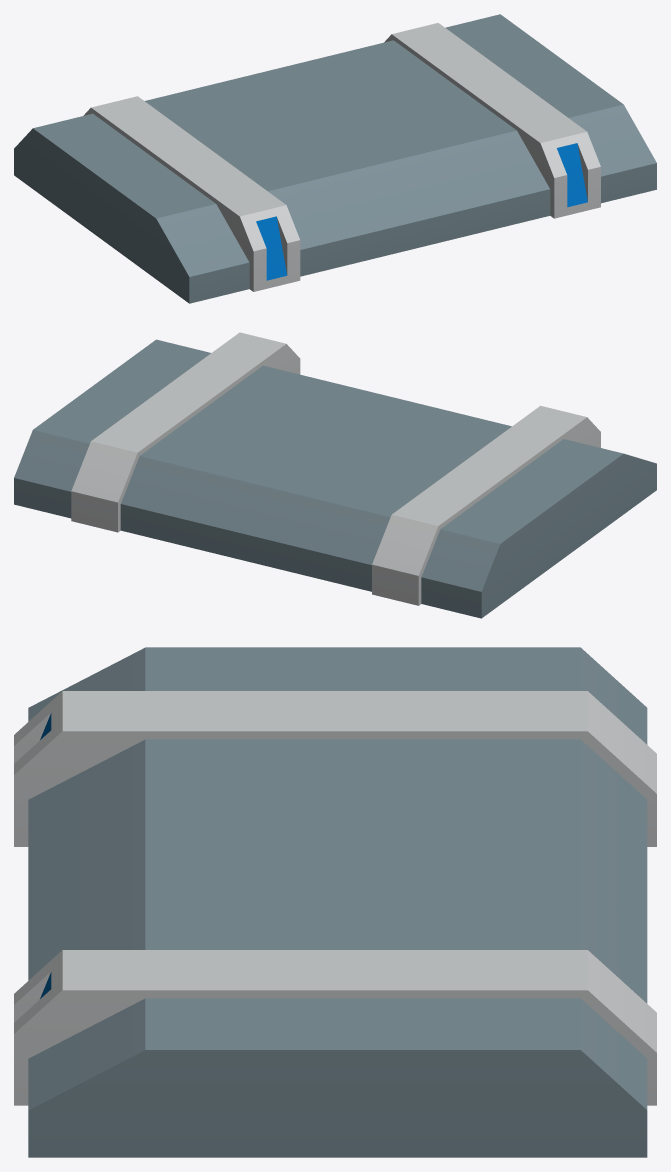
File: Crate_015_cap_001.fbx
3 renders of one model, top to bottom at view 1: azimuth 30°, elevation 25°; view 2: azimuth 150°, elevation 25°; view 3: azimuth 270°, elevation 25°, orthographic. The views are drawn at different scales.
Visible parts, largest first — view 1: Crate_015_cap_001; view 2: Crate_015_cap_001; view 3: Crate_015_cap_001.
Boxes of the visible parts, bbox=[...] form: Crate_015_cap_001: bbox=[14, 14, 656, 303]; Crate_015_cap_001: bbox=[14, 332, 656, 618]; Crate_015_cap_001: bbox=[14, 647, 656, 1157].
Bounding box in the file's own units: 100 × 67.5 × 13.39.
